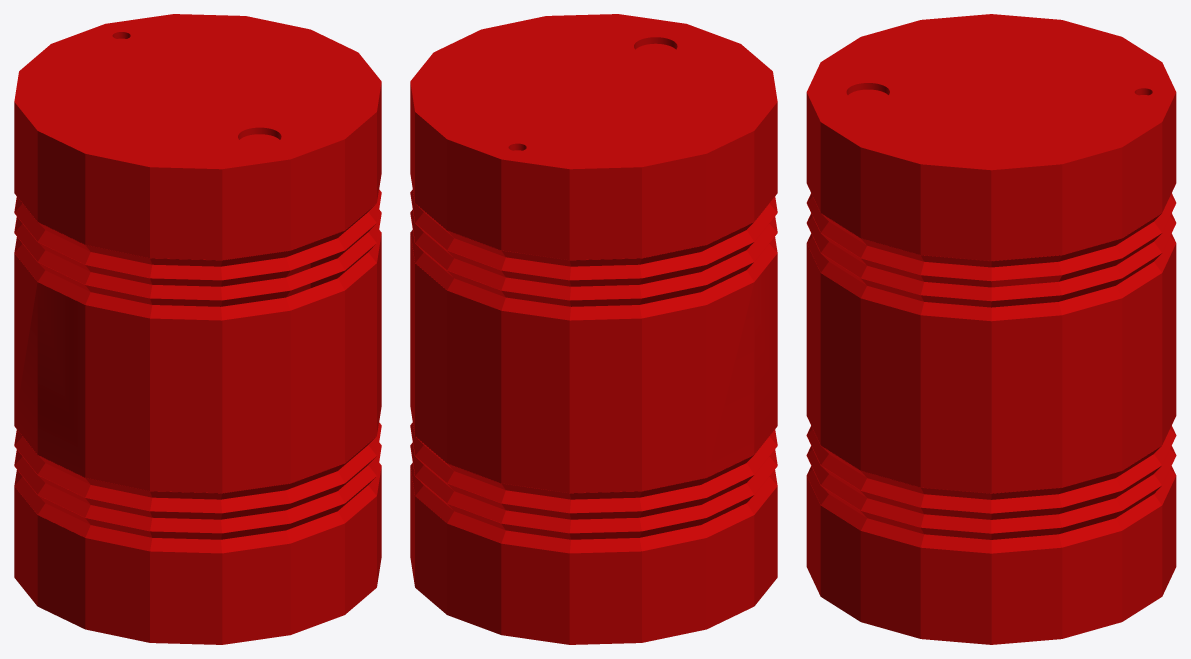
The picture shows the model from 3 angles, left to right: view 1: azimuth 30°, elevation 25°; view 2: azimuth 150°, elevation 25°; view 3: azimuth 270°, elevation 25°; orthographic projection.
Parts seen in each view (by area): view 1: drum; view 2: drum; view 3: drum.
Part boxes in pixels (left/top/right/bottom): drum: left=14, top=14, right=381, bottom=644; drum: left=410, top=14, right=777, bottom=644; drum: left=806, top=14, right=1176, bottom=644.
Size of the model in its own units: 0.4083 by 0.578 by 0.4083.
